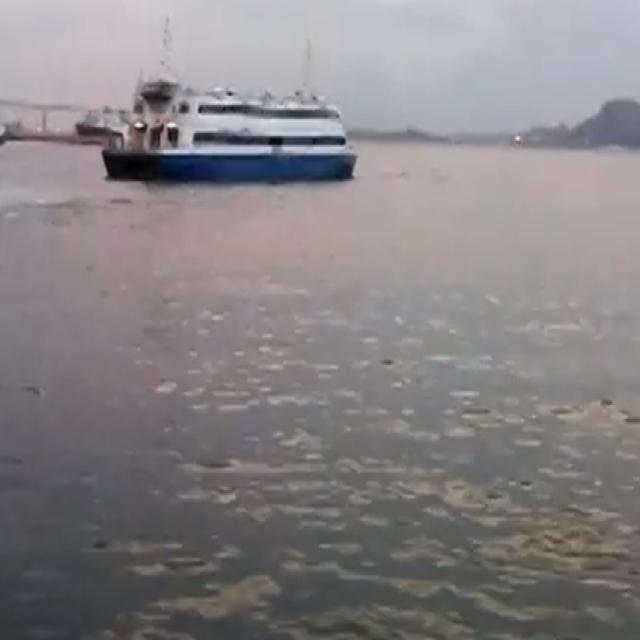Passenger: (103, 17, 356, 179)
